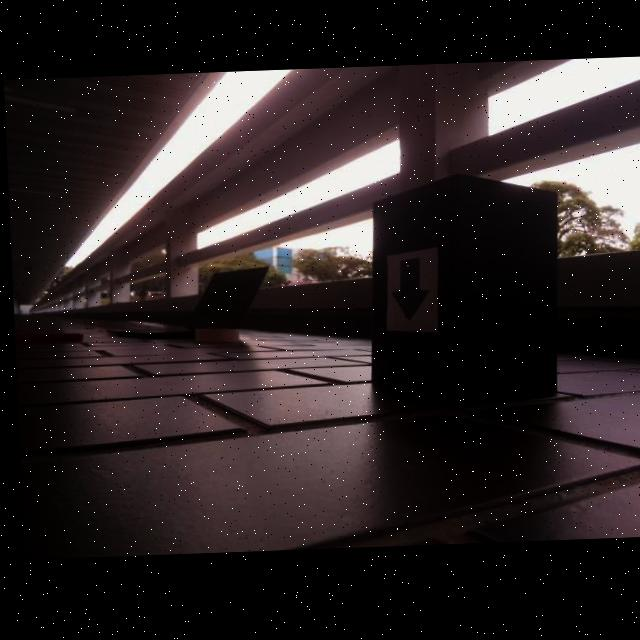DOWN: (388, 260, 428, 326)
